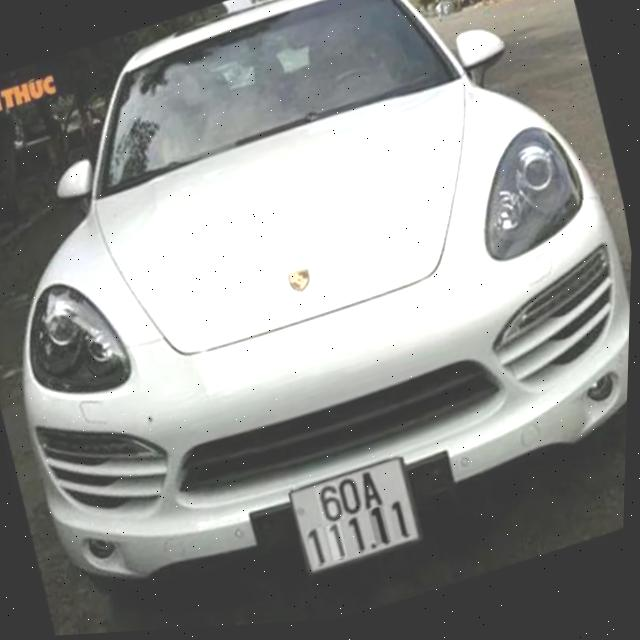car: (0, 0, 640, 640)
plate: (277, 447, 436, 584)
